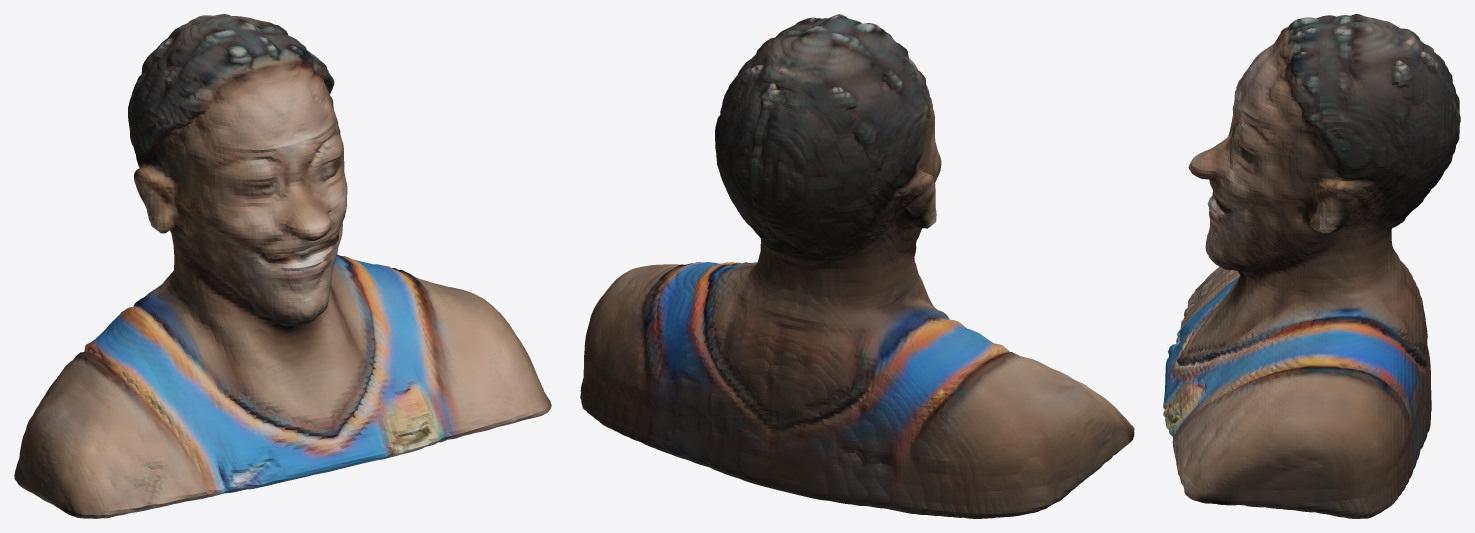
3 renders of one model, left to right at view 1: azimuth 30°, elevation 25°; view 2: azimuth 150°, elevation 25°; view 3: azimuth 270°, elevation 25°, orthographic. The views are drawn at different scales.
Visible parts, largest first — view 1: geometry_0; view 2: geometry_0; view 3: geometry_0.
Part boxes in pixels (left/top/right/bottom): geometry_0: left=14, top=14, right=551, bottom=518; geometry_0: left=580, top=14, right=1134, bottom=518; geometry_0: left=1163, top=14, right=1460, bottom=518.
Bounding box in the file's own units: 0.9958 × 0.8405 × 0.5652.
